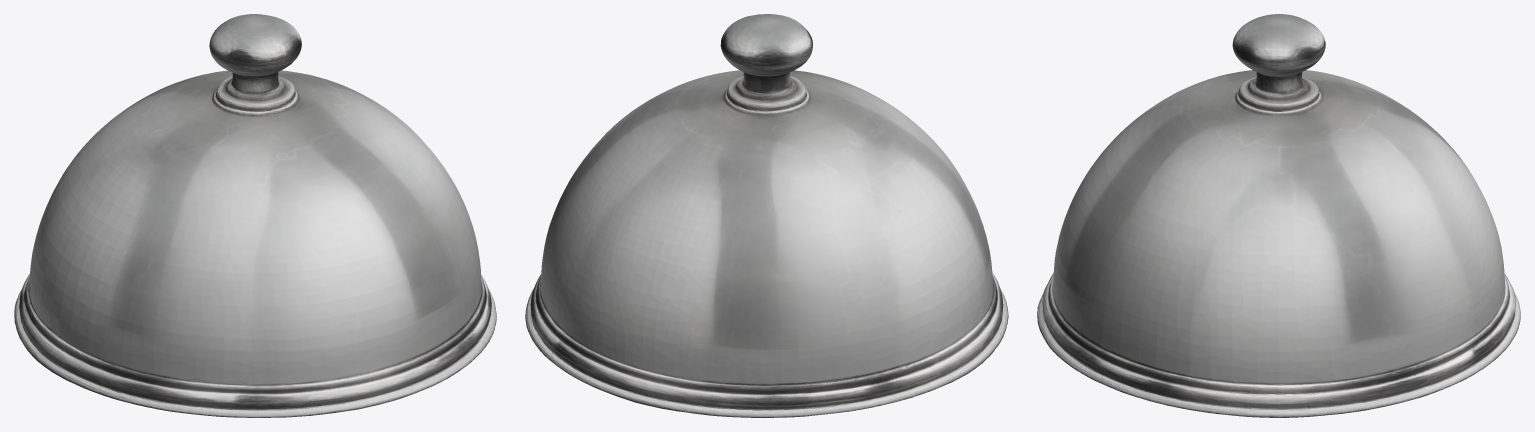
File: m_cloche.glb
The picture shows the model from 3 angles, left to right: view 1: azimuth 30°, elevation 25°; view 2: azimuth 150°, elevation 25°; view 3: azimuth 270°, elevation 25°; orthographic projection.
Parts seen in each view (by area): view 1: geometry_0; view 2: geometry_0; view 3: geometry_0.
Boxes of the visible parts, x1,y1,x2,y2 form: geometry_0: (14, 14, 496, 417); geometry_0: (525, 14, 1008, 417); geometry_0: (1037, 14, 1520, 417).
Size of the model in its own units: 0.9987 by 0.6725 by 0.9997.
Materials: 1 (1 with a texture image).
